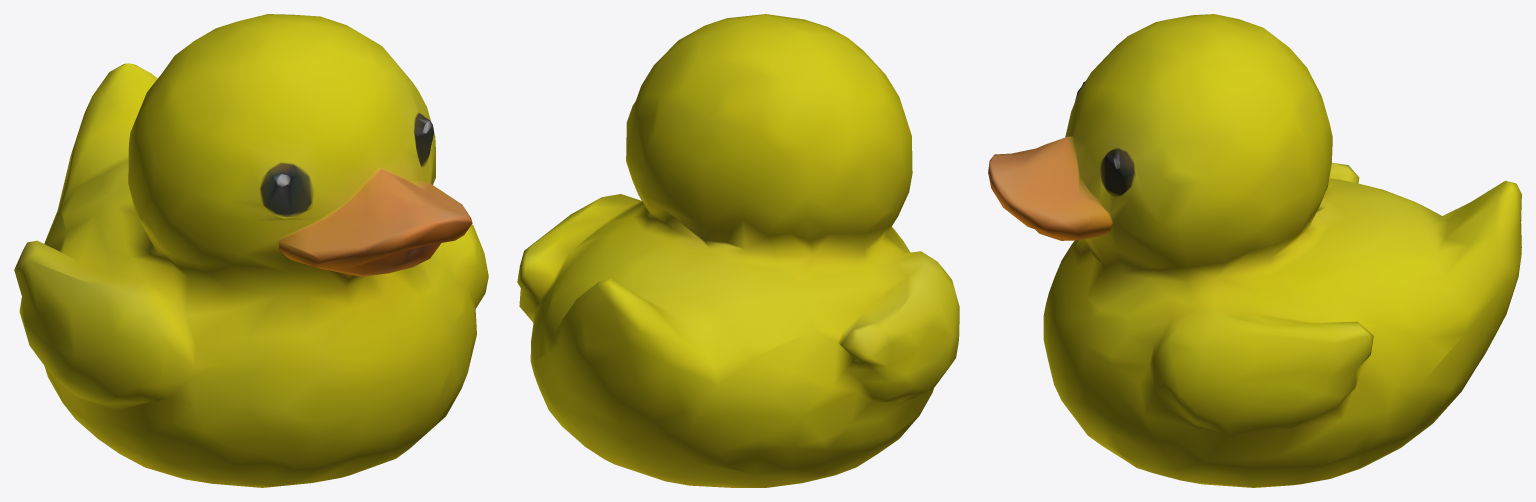
The model's file is duck-base-4k.glb.
The picture shows the model from 3 angles, left to right: view 1: azimuth 30°, elevation 25°; view 2: azimuth 150°, elevation 25°; view 3: azimuth 270°, elevation 25°; orthographic projection. The views are drawn at different scales.
Parts seen in each view (by area): view 1: DuckBase_SAM_LOD0_Sample; view 2: DuckBase_SAM_LOD0_Sample; view 3: DuckBase_SAM_LOD0_Sample.
Boxes of the visible parts, x1,y1,x2,y2 form: DuckBase_SAM_LOD0_Sample: (14,14,488,487); DuckBase_SAM_LOD0_Sample: (517,14,959,487); DuckBase_SAM_LOD0_Sample: (988,14,1521,487).
Bounding box in the file's own units: 0.8547 × 0.8295 × 0.9955.
